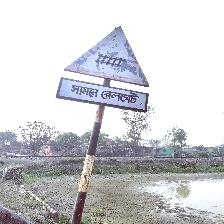Rail-crossing: (58, 26, 150, 113)
